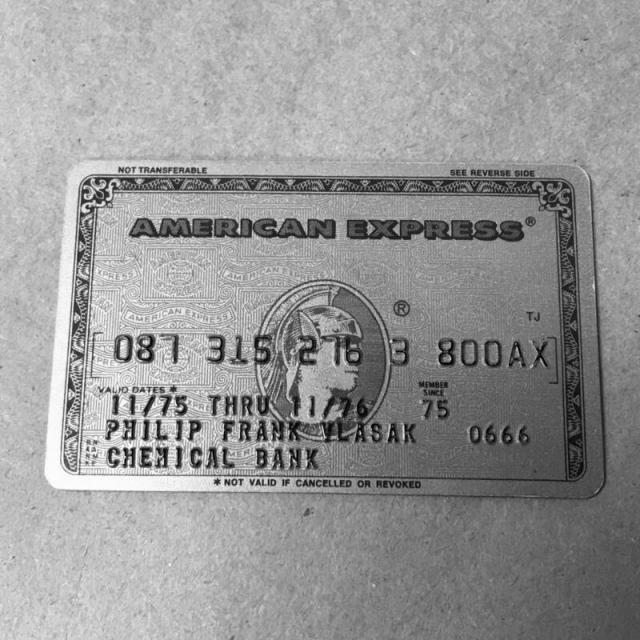card: (44, 152, 614, 508)
